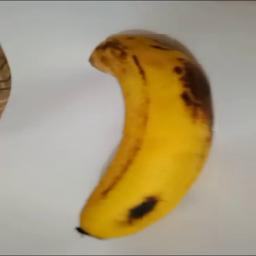Banana Semifresh: (55, 34, 219, 244)
